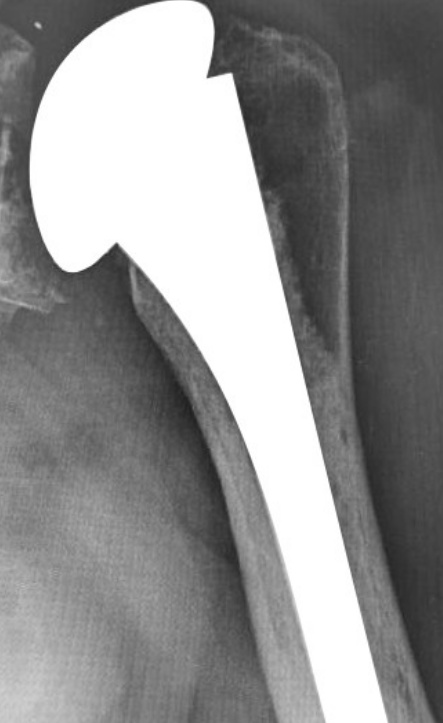Shoulder - Anotomyhead - Stryker: (16, 1, 253, 297)
Shoulder - Anotomytail - Stryker: (93, 36, 349, 502)
